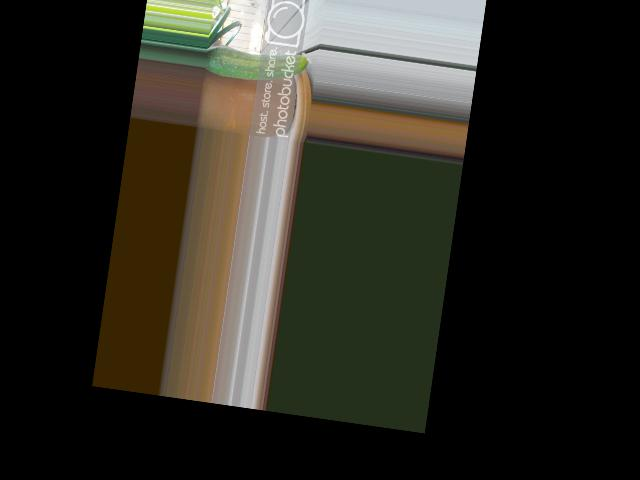cucumber: (204, 41, 313, 88)
